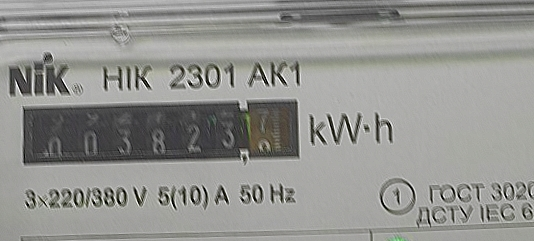0: (76, 126, 97, 154), (42, 132, 61, 156)
2: (181, 120, 201, 153)
3: (112, 124, 131, 154), (216, 118, 235, 148)
7: (253, 106, 270, 135)
8: (146, 125, 164, 153)
9: (44, 111, 62, 131)
screen: (11, 90, 302, 173)
